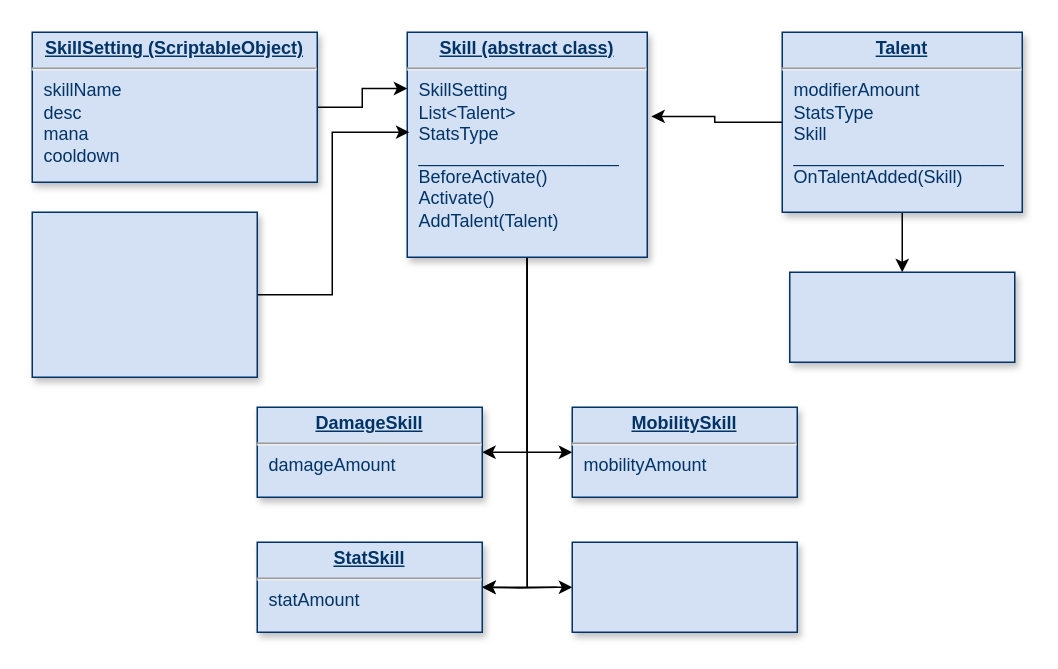
The diagram is 1058 pixels wide and 669 high, and some of its shapes have lost their labels. The shapes that lost their labels are listed below. From the top down, each one's centre as x and y in pixels, then its label:
At pixel 145 296: "StatsType (enum) Damage ManaCost CooldownReduce ......".
At pixel 903 319: "TalentAbility ActivateAbility()".
At pixel 685 589: "SupportSkill supportAmount".
